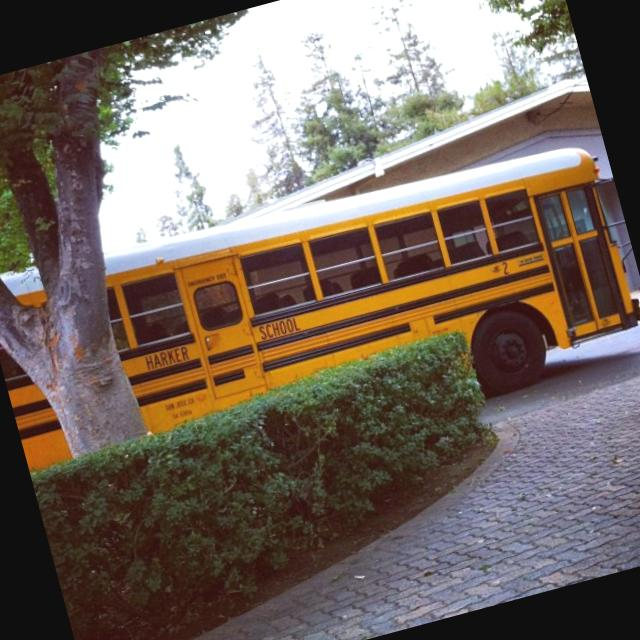Vehicle: (0, 118, 640, 506)
